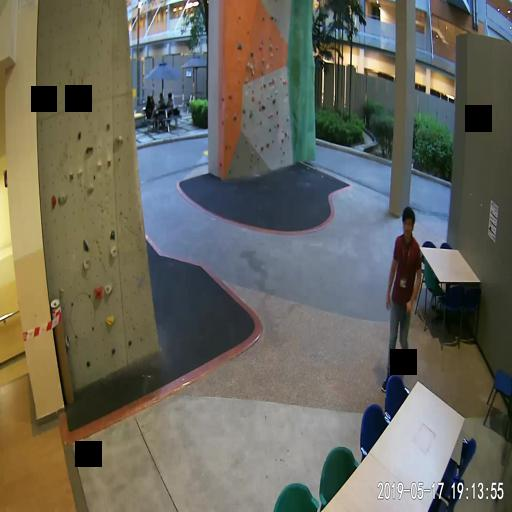Handgun: (400, 300, 409, 327)
